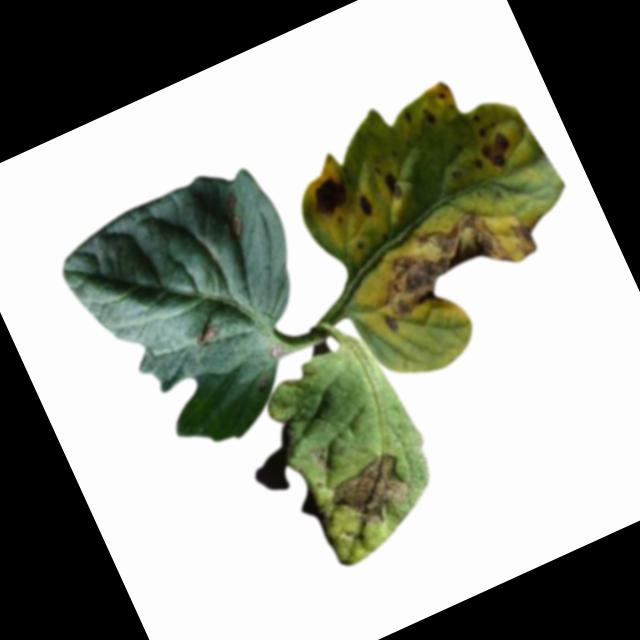Early_blight: (355, 182, 560, 342), (321, 444, 420, 537), (463, 126, 521, 183), (304, 170, 351, 223), (191, 316, 228, 348), (302, 440, 331, 477), (382, 169, 409, 204), (353, 190, 377, 221), (419, 103, 439, 129)
